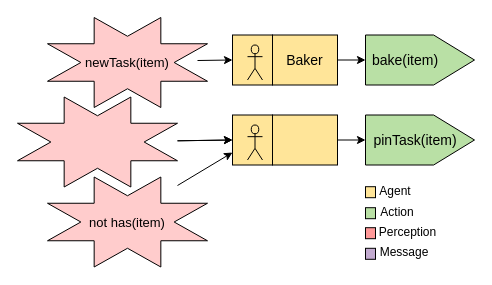
Some shapes in this 492 by 285 pixel diagram are drawn without their labels. The shapes that lost their labels are listed below. From the top down, each one's centre as x and y in pixels, then its label:
(x=97, y=141): has(item)
(x=305, y=139): Boss
